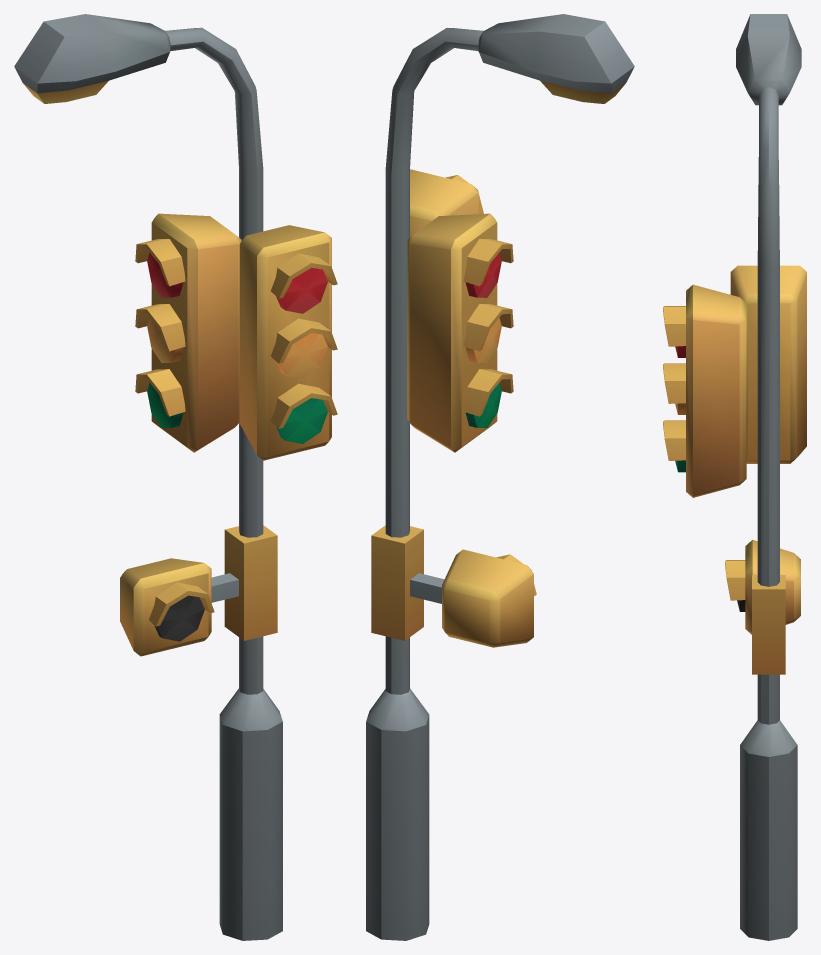
The model's file is kay-semaforo-duplo.gltf.
3 views of the same model, side by side, from view 1: azimuth 30°, elevation 25°; view 2: azimuth 150°, elevation 25°; view 3: azimuth 270°, elevation 25° (orthographic). The views are drawn at different scales.
Parts seen in each view (by area): view 1: trafficlight_B; view 2: trafficlight_B; view 3: trafficlight_B.
Part boxes in pixels (x1,y1,x2,y2): trafficlight_B: (14, 14, 337, 940); trafficlight_B: (366, 14, 634, 940); trafficlight_B: (663, 14, 806, 940).
Size of the model in its own units: 1.4 by 4.8 by 0.7529.
1 material, 1 textured.
